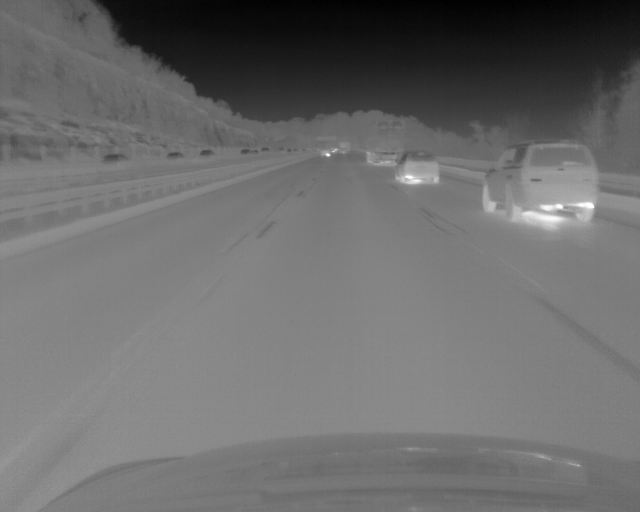car: (479, 141, 598, 228), (364, 121, 403, 166), (393, 151, 438, 185), (100, 154, 128, 163), (167, 152, 184, 160), (199, 149, 216, 156), (240, 148, 250, 154)
